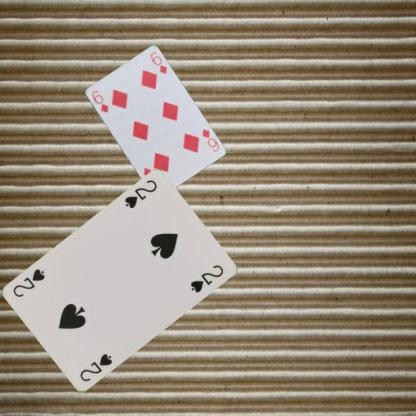2s: (77, 350, 114, 384), (122, 178, 158, 210)
6d: (199, 126, 220, 153), (89, 88, 109, 114)
